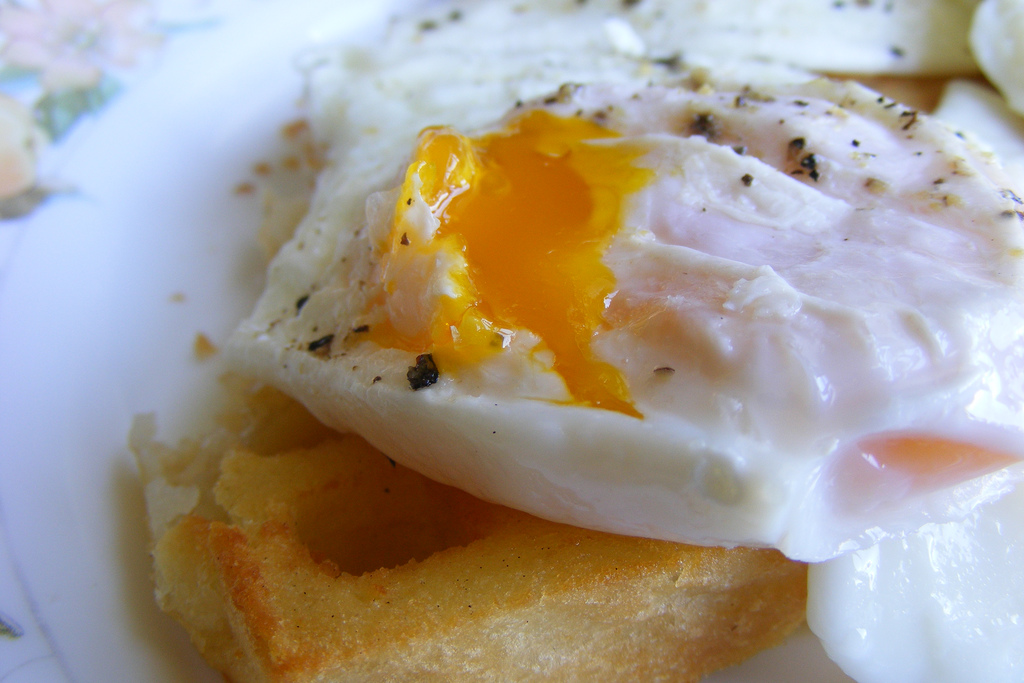fried egg: (299, 15, 991, 556)
